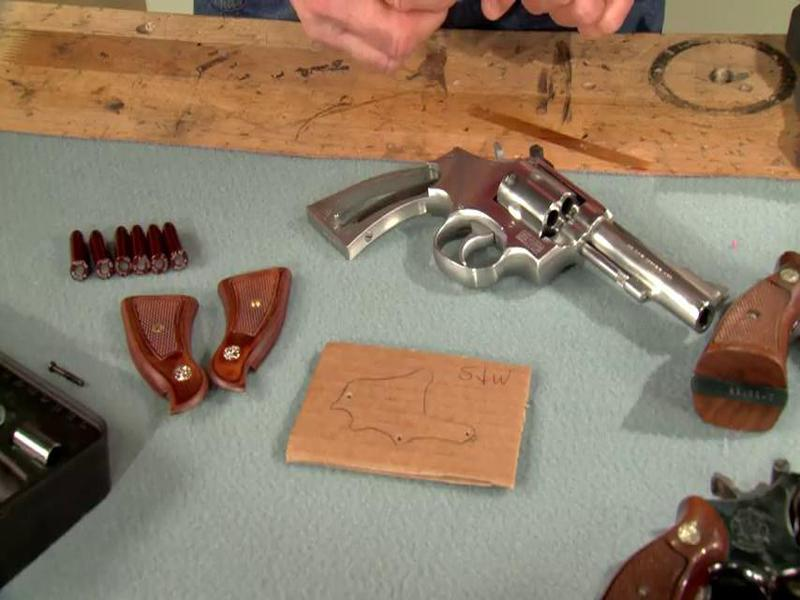Revolver: (288, 117, 728, 382)
